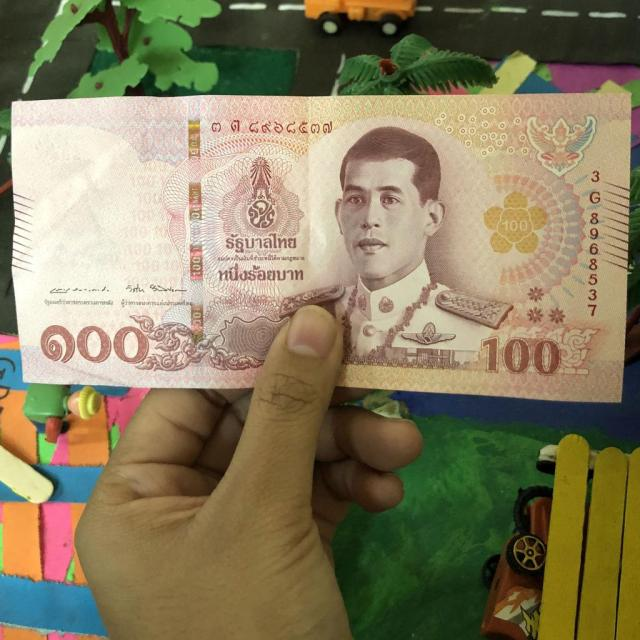THAI100: (11, 94, 630, 404)
